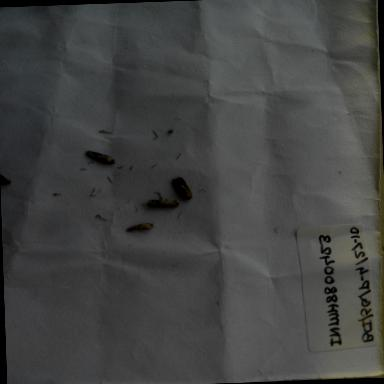pbw: (82, 147, 117, 170), (142, 193, 182, 213), (122, 219, 164, 236), (171, 175, 193, 204)
